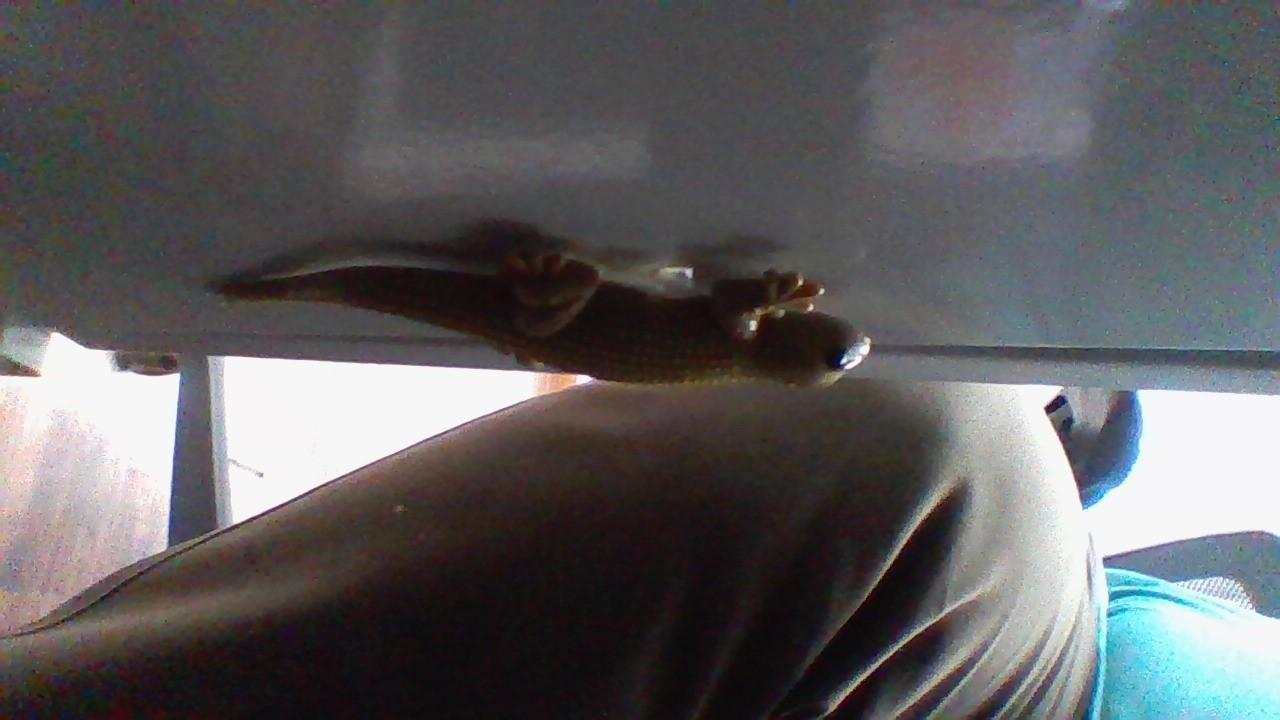lizard: (175, 227, 870, 403)
